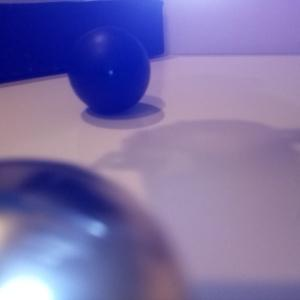alive_ball: (1, 156, 191, 300)
dead_ball: (66, 26, 151, 115)
